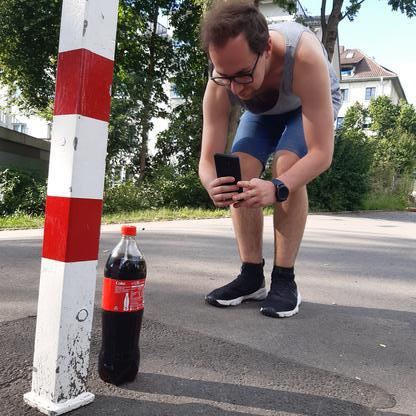coca-cola: (99, 225, 148, 386)
